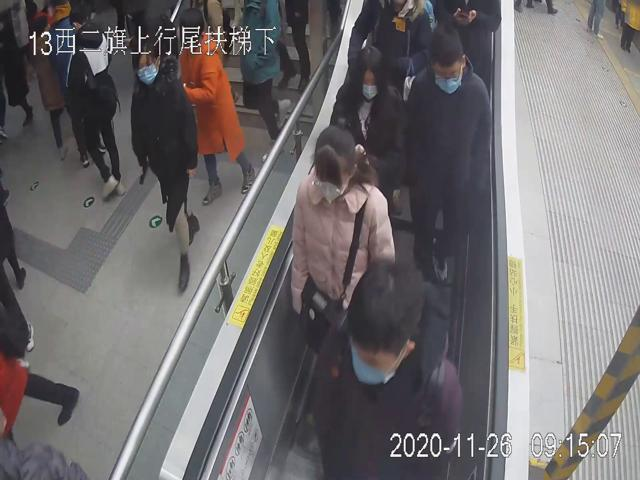person: (310, 258, 464, 480), (290, 122, 394, 351), (403, 21, 491, 284), (130, 37, 200, 293), (329, 42, 405, 199)
